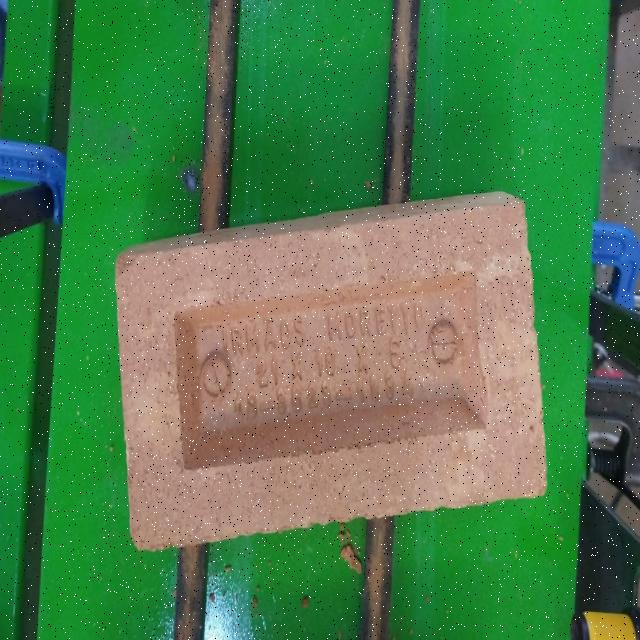bricks: (114, 188, 550, 558)
